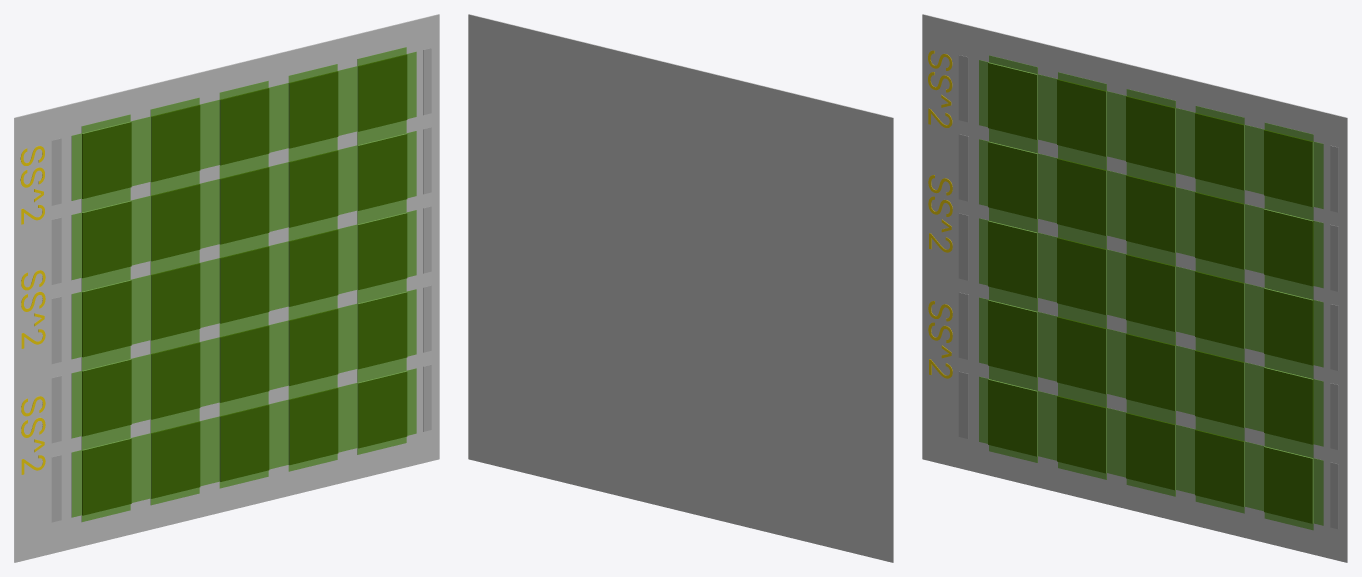
Rendered from panel.gltf.
The picture shows the model from 3 angles, left to right: view 1: azimuth 30°, elevation 25°; view 2: azimuth 150°, elevation 25°; view 3: azimuth 330°, elevation 25°; orthographic projection.
Parts seen in each view (by area): view 1: Part 1; view 2: Part 1; view 3: Part 1.
Boxes of the visible parts, x1,y1,x2,y2 form: Part 1: [14, 14, 439, 562]; Part 1: [468, 14, 893, 562]; Part 1: [922, 14, 1347, 562].
Bounding box in the file's own units: 0.127 × 0.127 × 0.0008.
